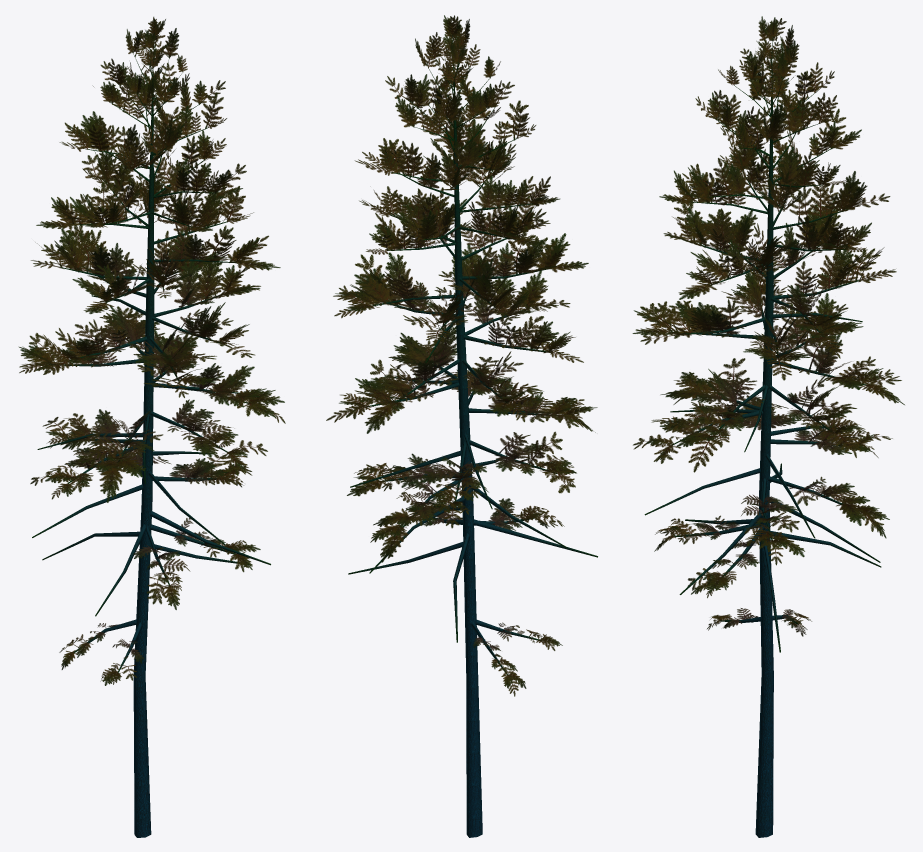
Rendered from Douglas_Fir_A.glb.
3 views of the same model, side by side, from view 1: azimuth 30°, elevation 25°; view 2: azimuth 150°, elevation 25°; view 3: azimuth 270°, elevation 25° (orthographic).
Visible parts, largest first — view 1: A_LOD0; view 2: A_LOD0; view 3: A_LOD0.
Part boxes in pixels (x1,y1,x2,y2): A_LOD0: (19,17,285,837); A_LOD0: (326,15,597,837); A_LOD0: (632,16,904,837).
Size of what is drawn, in the model's own units: 7.1 by 22.28 by 6.84.
Materials: 2 (2 with a texture image).
